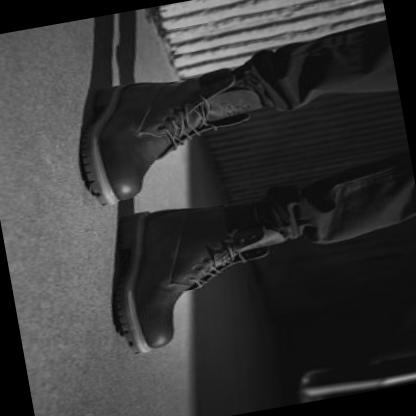ankle: (194, 228, 206, 236), (161, 96, 173, 104)
heel: (124, 220, 135, 228), (102, 91, 111, 96)
left_foot: (71, 66, 254, 209)
pinky: (110, 170, 119, 177), (164, 335, 171, 342)
right_foot: (98, 192, 280, 358)
toe: (143, 324, 154, 334), (126, 191, 135, 196)
